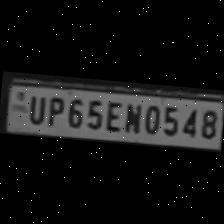0: (140, 100, 163, 134)
4: (177, 103, 200, 138)
5: (158, 102, 181, 138), (82, 96, 104, 131)
6: (62, 94, 86, 129)
8: (196, 106, 219, 140)
E: (102, 98, 123, 132)
N: (120, 99, 143, 134)
P: (43, 92, 65, 128)
U: (22, 92, 48, 126)
